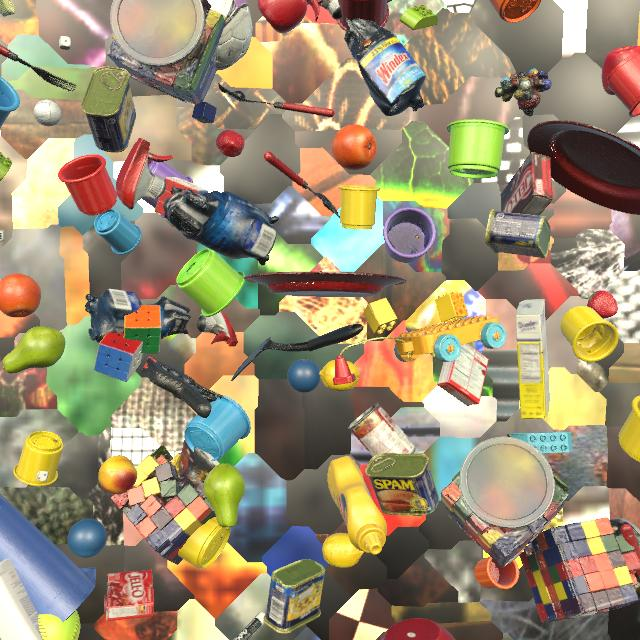ycb_004_sugar_box: (515, 299, 550, 419)
ycb_005_tomato_soup_can: (348, 403, 416, 457)
ycb_006_mustard_bottle: (327, 456, 387, 555)
ycb_008_pudding_box: (501, 152, 553, 216)
ycb_009_gelatin_box: (437, 343, 489, 406), (106, 570, 154, 621)
ycb_010_potted_meat_can: (81, 66, 136, 153), (365, 453, 439, 516), (263, 559, 325, 634), (485, 209, 551, 258)
ycb_012_strawberry: (587, 290, 618, 319), (216, 130, 245, 157)
ycb_013_apple: (602, 46, 640, 95), (258, 0, 308, 33)
ycb_014_lemon: (322, 533, 364, 568), (319, 360, 360, 392)
ycb_015_peach: (98, 455, 137, 494)
ycb_016_pear: (2, 326, 66, 374), (203, 463, 245, 530)
ycb_017_orange: (332, 124, 377, 170), (0, 273, 41, 318)
